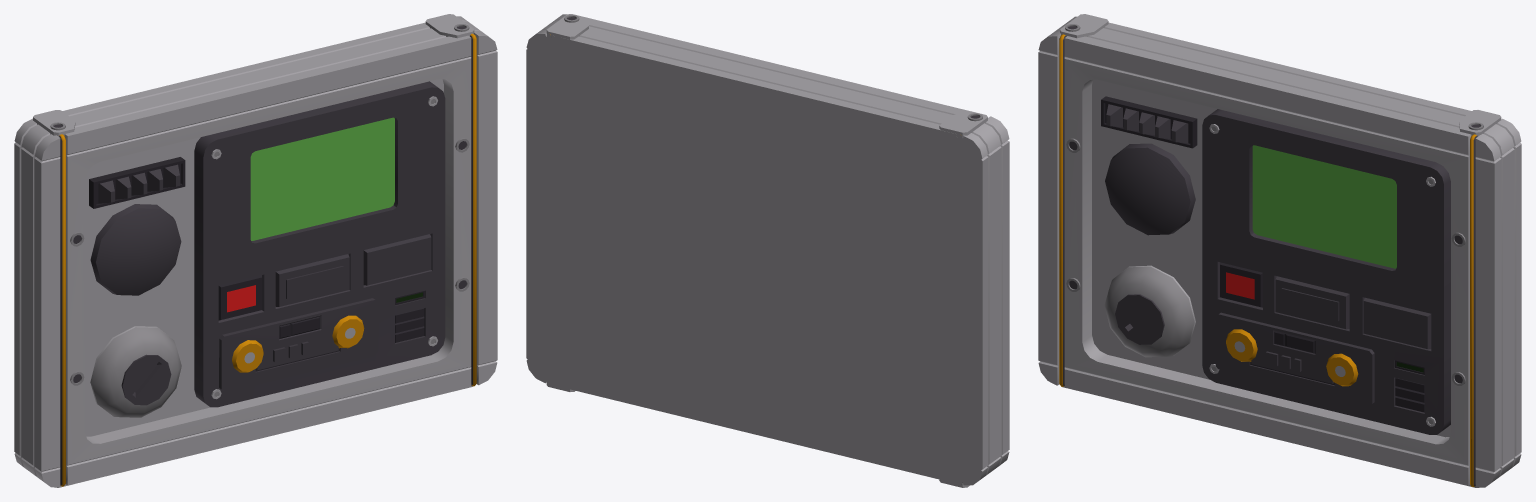
File: SM_Building_Decor_10.fbx
The picture shows the model from 3 angles, left to right: view 1: azimuth 30°, elevation 25°; view 2: azimuth 150°, elevation 25°; view 3: azimuth 330°, elevation 25°; orthographic projection.
Visible parts, largest first — view 1: SM_Building_Decor_10; view 2: SM_Building_Decor_10; view 3: SM_Building_Decor_10.
Part boxes in pixels (x1,y1,x2,y2): SM_Building_Decor_10: (14,14,497,487); SM_Building_Decor_10: (526,14,1009,487); SM_Building_Decor_10: (1038,14,1521,487).
Bounding box in the file's own units: 0.2999 × 0.2249 × 0.0347.
